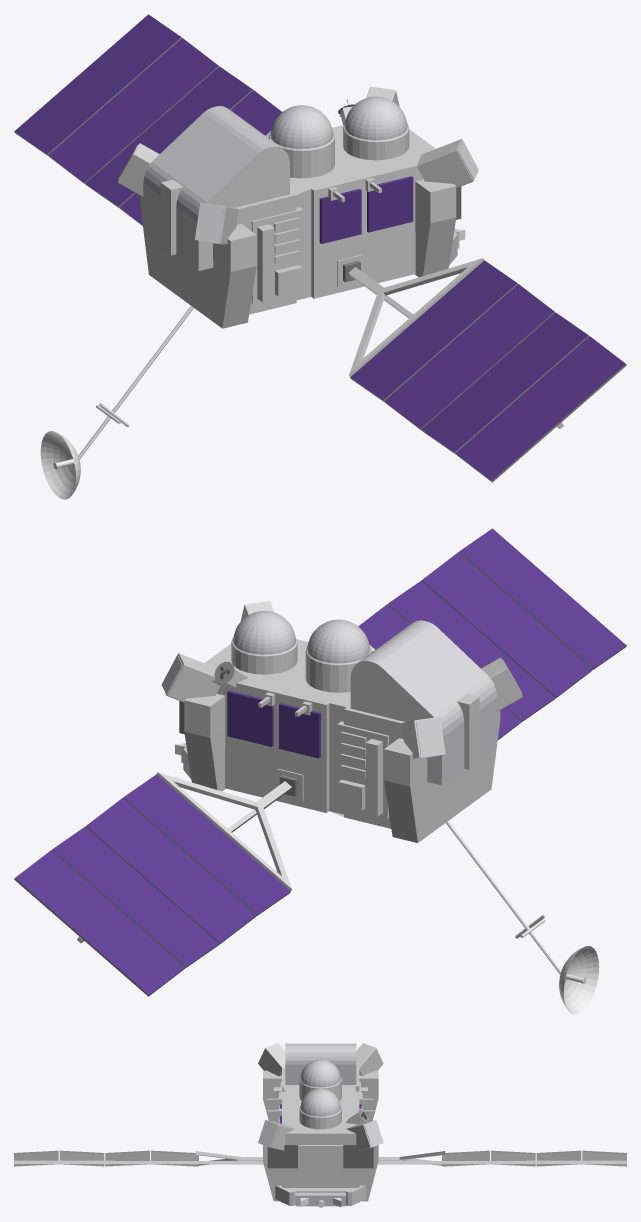
Rendered from gamma-ray-observatory.glb.
The picture shows the model from 3 angles, top to bottom: view 1: azimuth 30°, elevation 25°; view 2: azimuth 150°, elevation 25°; view 3: azimuth 270°, elevation 25°; orthographic projection. The views are drawn at different scales.
Parts seen in each view (by area): view 1: <LWODefault>; view 2: <LWODefault>; view 3: <LWODefault>.
Part boxes in pixels (x1,y1,x2,y2): <LWODefault>: (14, 14, 626, 499); <LWODefault>: (14, 528, 626, 1014); <LWODefault>: (14, 1043, 626, 1207).
Size of the model in its own units: 1.51 by 1.21 by 3.17.
